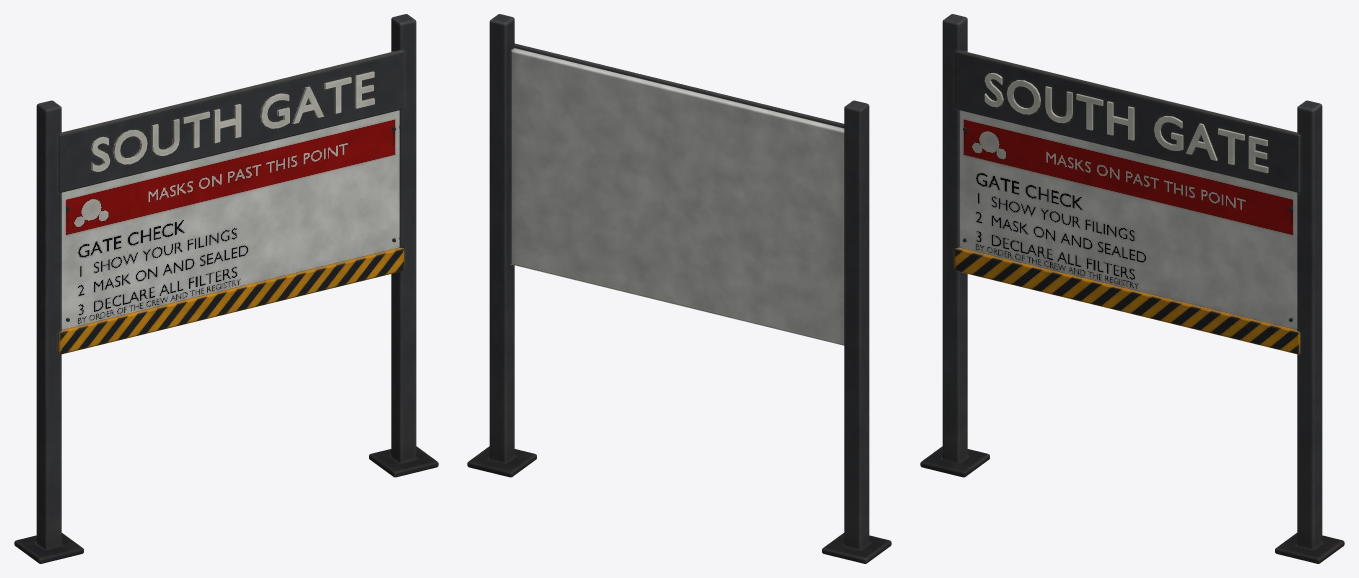
The model's file is sign_south_gate.glb.
The picture shows the model from 3 angles, left to right: view 1: azimuth 30°, elevation 25°; view 2: azimuth 150°, elevation 25°; view 3: azimuth 330°, elevation 25°; orthographic projection.
Visible parts, largest first — view 1: sign_south_gate; view 2: sign_south_gate; view 3: sign_south_gate.
Part boxes in pixels (x1,y1,x2,y2): sign_south_gate: (14,14,438,563); sign_south_gate: (467,14,891,563); sign_south_gate: (920,14,1344,563).
Bounding box in the file's own units: 2.82 × 3 × 0.32.
1 material, 1 textured.
